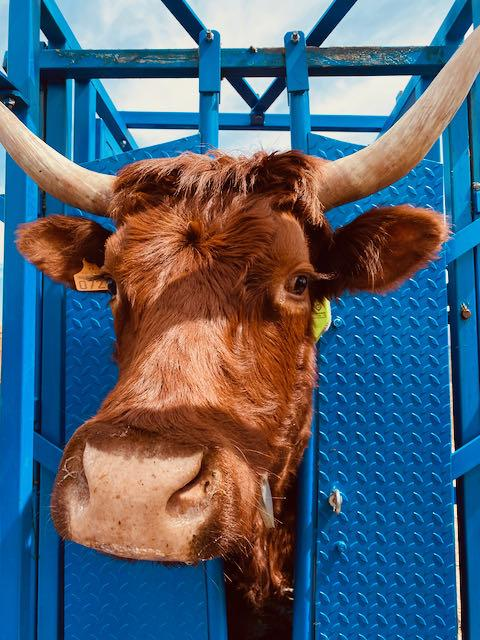muzzles: (50, 425, 234, 564)
